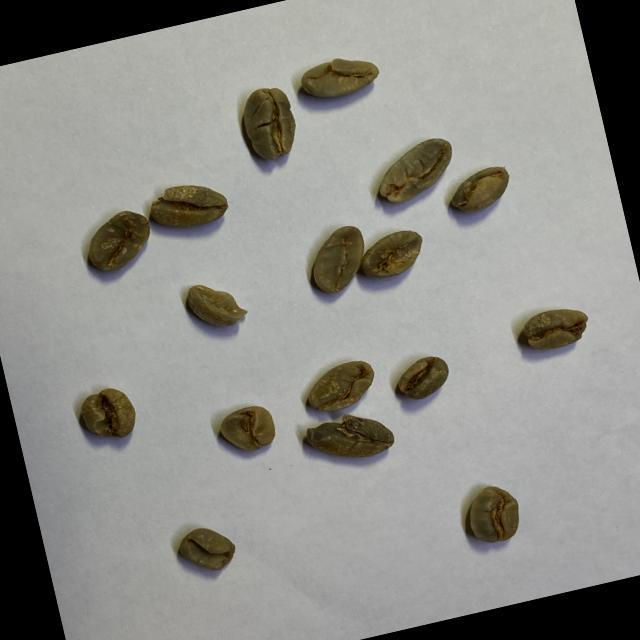bad: (368, 132, 461, 207), (302, 402, 398, 470), (234, 80, 304, 168), (79, 205, 158, 278), (144, 172, 232, 236), (302, 221, 375, 298), (296, 47, 384, 107), (301, 356, 381, 416), (354, 224, 429, 284), (461, 479, 526, 548), (518, 300, 594, 356), (443, 160, 516, 218), (74, 382, 140, 446), (182, 274, 250, 336), (172, 520, 240, 580), (214, 400, 280, 458)
good: (390, 350, 454, 404)
